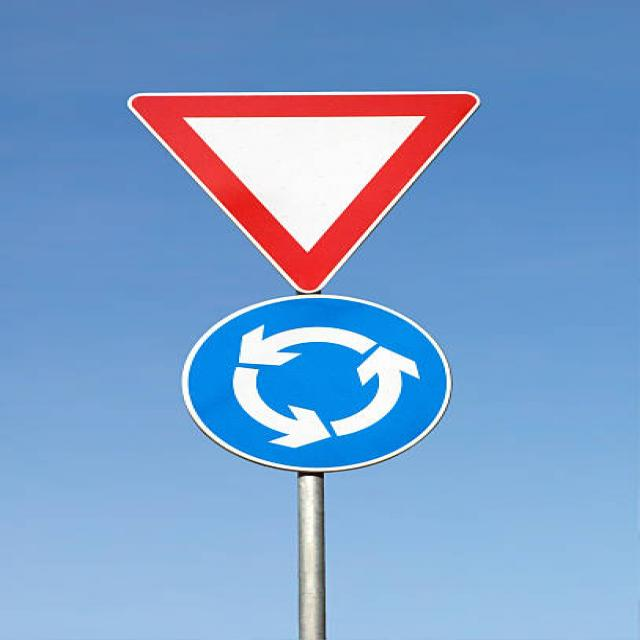round_about: (176, 294, 464, 482)
